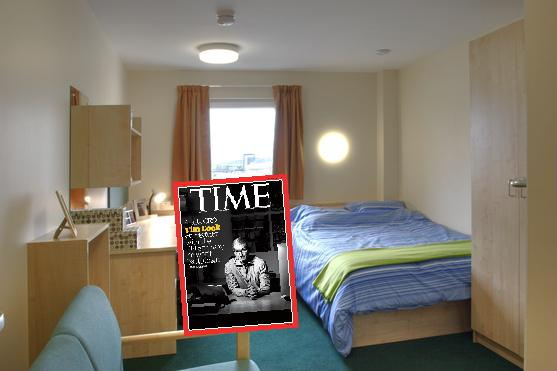times: (180, 170, 295, 340)
